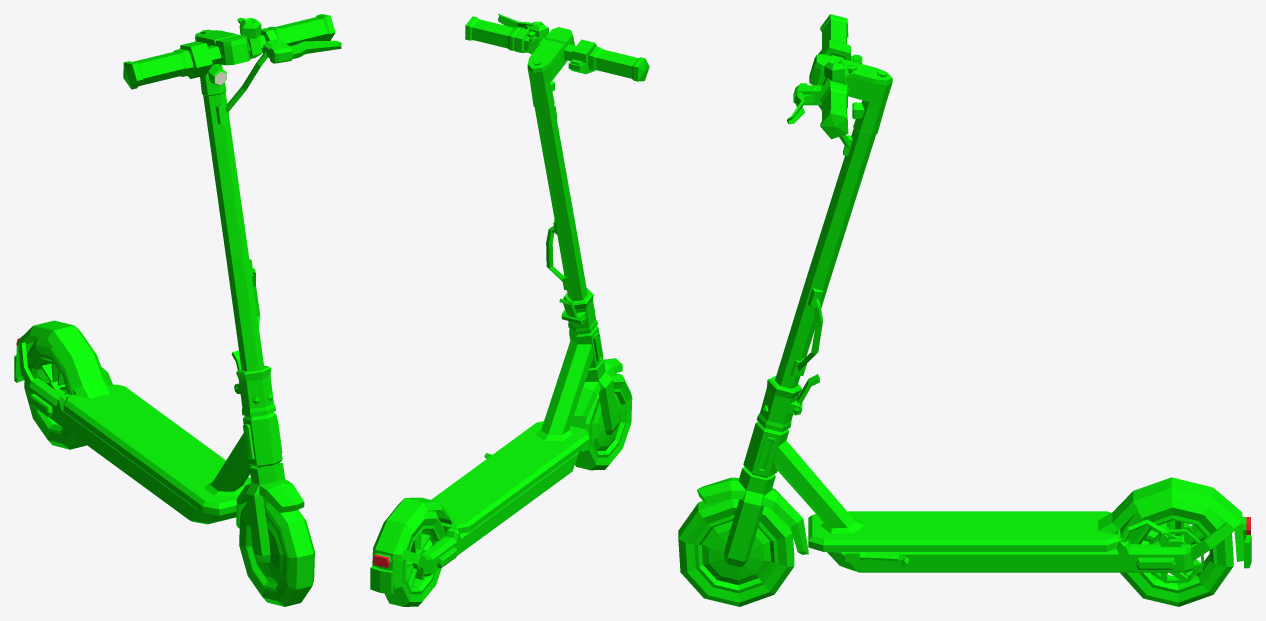
Rendered from SM_Scooter_Electric_Modern.fbx.
3 renders of one model, left to right at view 1: azimuth 30°, elevation 25°; view 2: azimuth 150°, elevation 25°; view 3: azimuth 270°, elevation 25°, orthographic. The views are drawn at different scales.
Visible parts, largest first — view 1: SM_Scooter_Electric_Modern_Base, SM_Scooter_Electric_Moder_Handlebars, SM_Scooter_Electric_Modern_Wheel_F, SM_Scooter_Electric_Modern_Wheel_B; view 2: SM_Scooter_Electric_Modern_Base, SM_Scooter_Electric_Moder_Handlebars, SM_Scooter_Electric_Modern_Wheel_F, SM_Scooter_Electric_Modern_Wheel_B; view 3: SM_Scooter_Electric_Modern_Base, SM_Scooter_Electric_Moder_Handlebars, SM_Scooter_Electric_Modern_Wheel_F, SM_Scooter_Electric_Modern_Wheel_B.
Boxes of the visible parts, bbox=[...] form: SM_Scooter_Electric_Modern_Base: bbox=[14, 320, 282, 524]; SM_Scooter_Electric_Moder_Handlebars: bbox=[123, 14, 341, 562]; SM_Scooter_Electric_Modern_Wheel_F: bbox=[239, 497, 314, 606]; SM_Scooter_Electric_Modern_Wheel_B: bbox=[24, 337, 86, 449]; SM_Scooter_Electric_Modern_Base: bbox=[370, 288, 603, 594]; SM_Scooter_Electric_Moder_Handlebars: bbox=[465, 14, 649, 434]; SM_Scooter_Electric_Modern_Wheel_F: bbox=[575, 373, 632, 470]; SM_Scooter_Electric_Modern_Wheel_B: bbox=[385, 510, 445, 606]; SM_Scooter_Electric_Modern_Base: bbox=[743, 374, 1251, 572]; SM_Scooter_Electric_Moder_Handlebars: bbox=[697, 14, 892, 566]; SM_Scooter_Electric_Modern_Wheel_F: bbox=[678, 499, 794, 606]; SM_Scooter_Electric_Modern_Wheel_B: bbox=[1120, 498, 1233, 606].
Size of the model in its own units: 0.4693 by 1.2 by 1.13.
